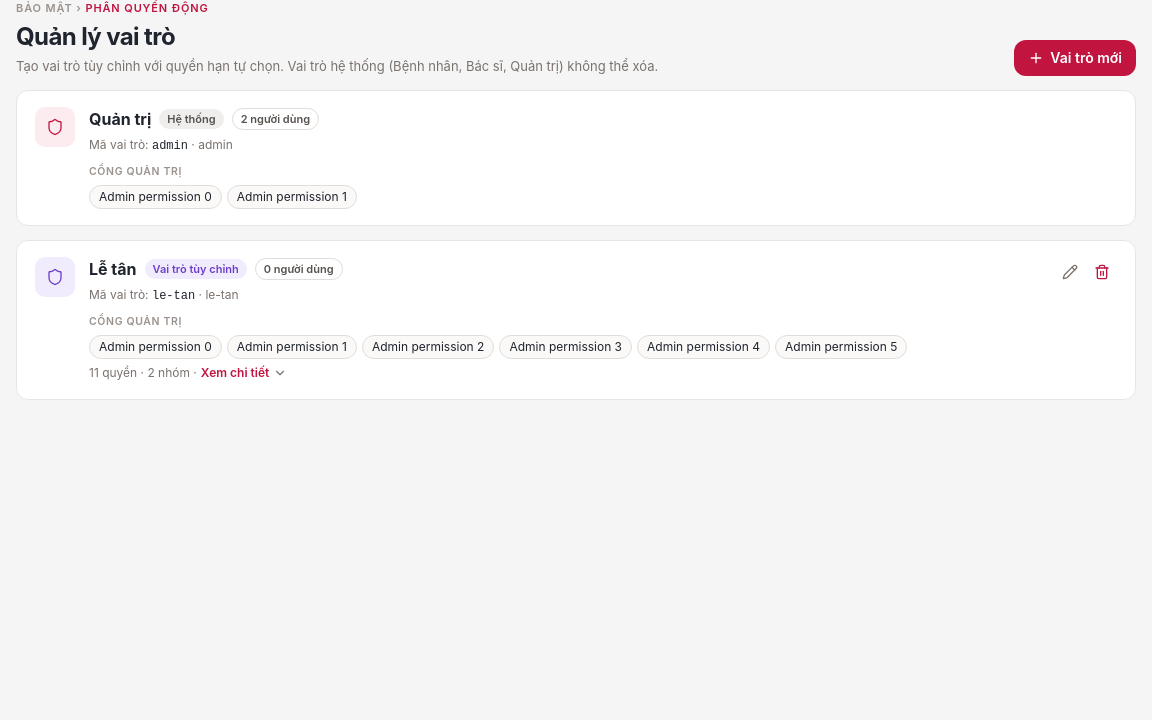
Test case: Admin role management › hides the slug field when editing an existing role
Click the button named "Sửa vai trò" at (1070, 272), box [1055, 257, 1085, 287]
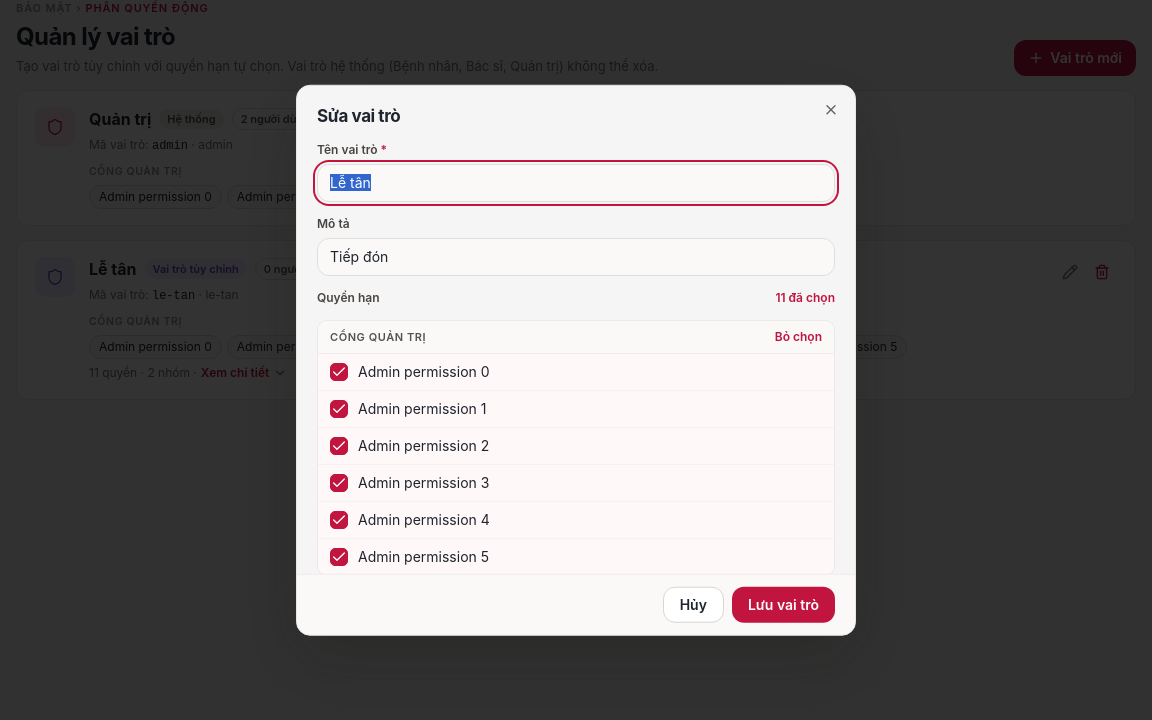
Check: the heading "Sửa vai trò" is shown, box [317, 106, 400, 126]
